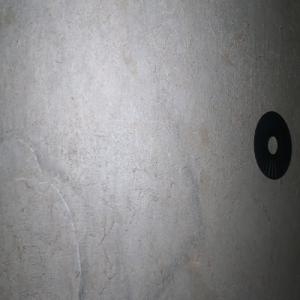Washer: (253, 110, 291, 179)
